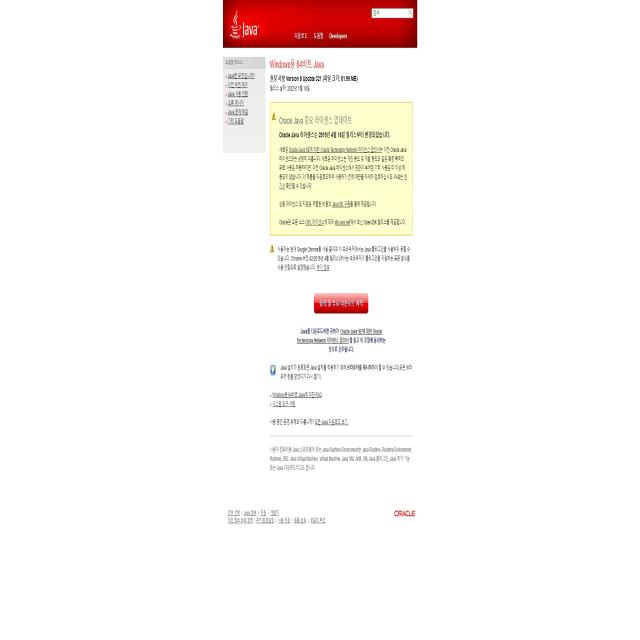search: (223, 70, 259, 134), (370, 6, 414, 15)
